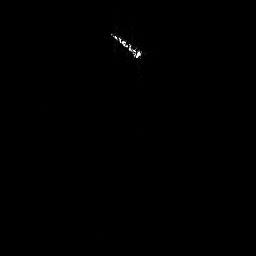ship: (109, 31, 142, 60)
